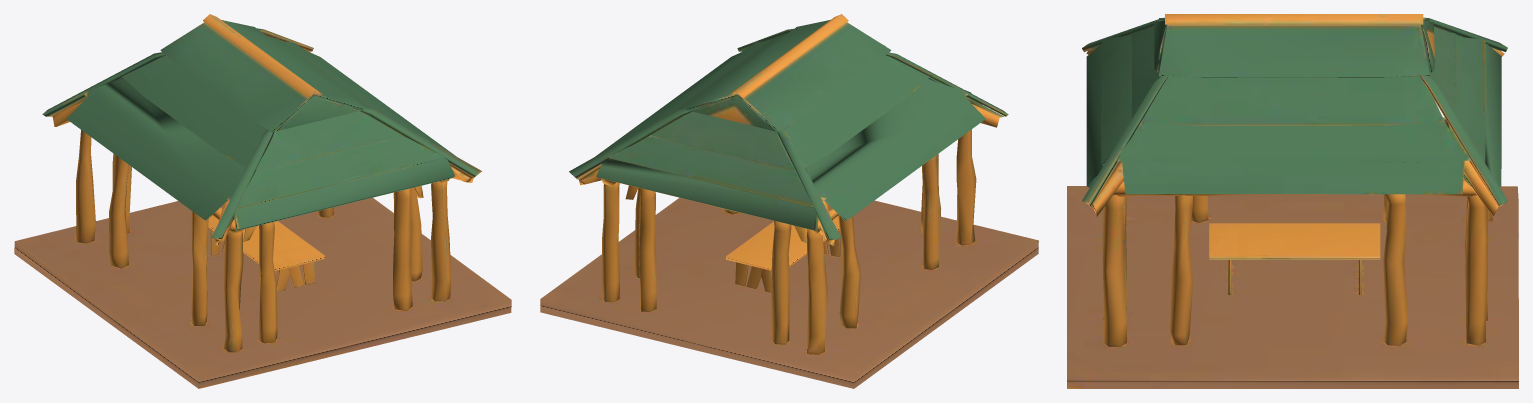
Rendered from shelter.glb.
3 views of the same model, side by side, from view 1: azimuth 30°, elevation 25°; view 2: azimuth 150°, elevation 25°; view 3: azimuth 270°, elevation 25° (orthographic). The views are drawn at different scales.
Bounding box in the file's own units: 0.9409 × 0.6611 × 0.9604.
1 material, 1 textured.
